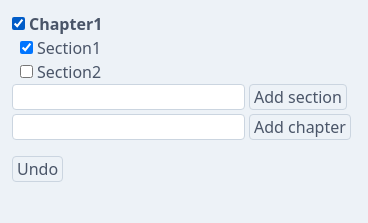
Test: Creates new section
This screenshot has width=368, height=223.
In the field with test id "chapter-0-new-section-input": (128, 97) [12,84,245,110], type "Test section"
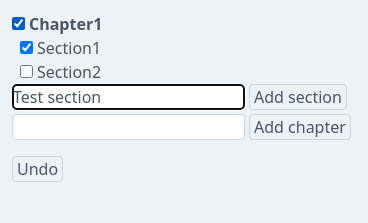
Click the button with test id "chapter-0-new-section-submit": (298, 97) [249,84,347,110]
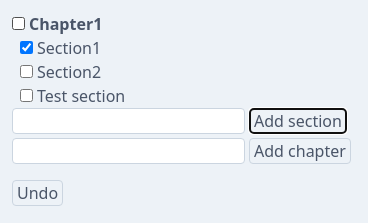
expect the text "Test section" is shown: met, box [20,85,125,107]
